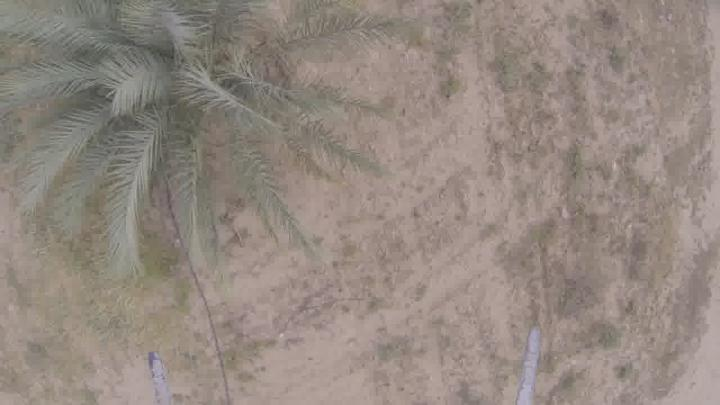Date-Palm-Crown: (56, 1, 272, 192)
